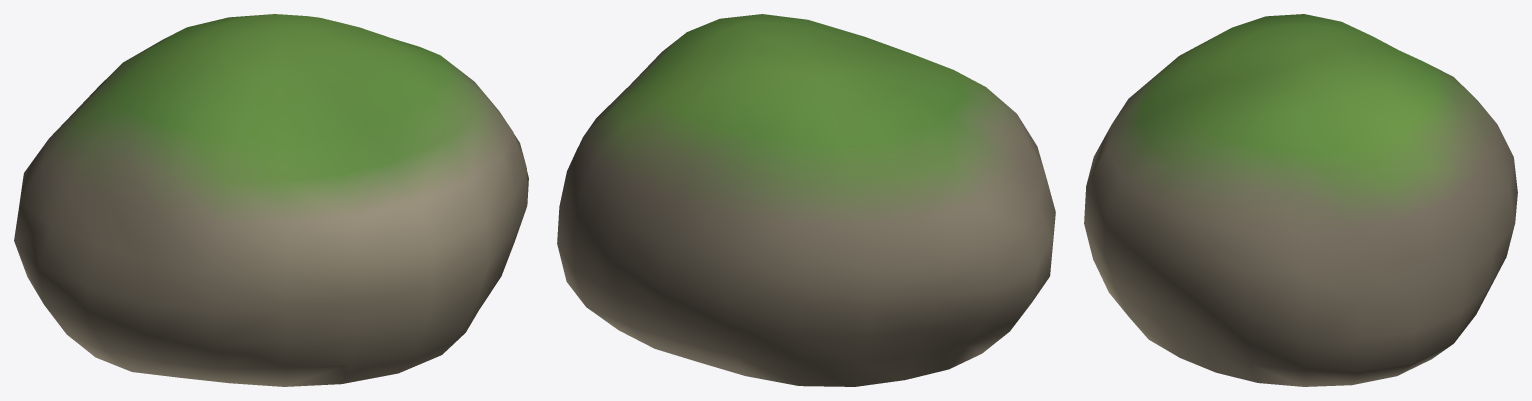
Rendered from RockC.fbx.
The picture shows the model from 3 angles, left to right: view 1: azimuth 30°, elevation 25°; view 2: azimuth 150°, elevation 25°; view 3: azimuth 270°, elevation 25°; orthographic projection. The views are drawn at different scales.
Visible parts, largest first — view 1: RockC; view 2: RockC; view 3: RockC.
Part boxes in pixels (x1,y1,x2,y2): RockC: [14, 14, 528, 386]; RockC: [557, 14, 1055, 386]; RockC: [1084, 14, 1517, 386].
Bounding box in the file's own units: 0.5223 × 0.2834 × 0.4562.
